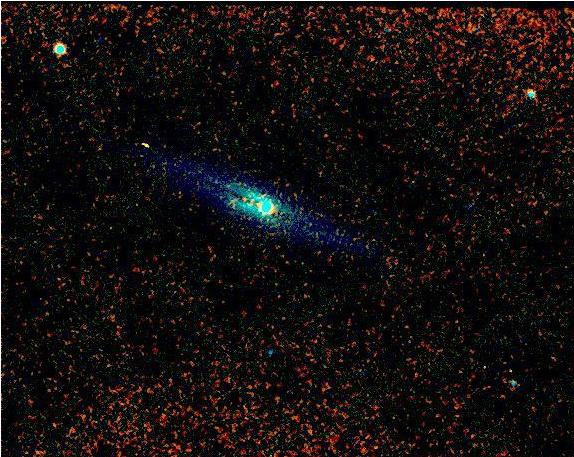star: (228, 186, 258, 216)
